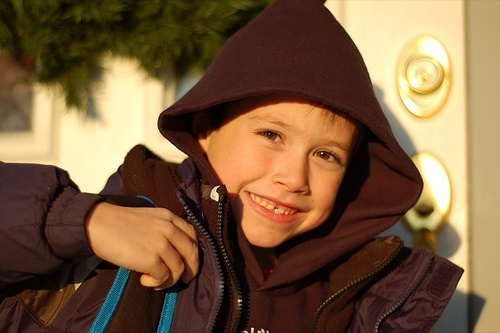head: (200, 89, 358, 249)
person: (37, 1, 451, 333)
